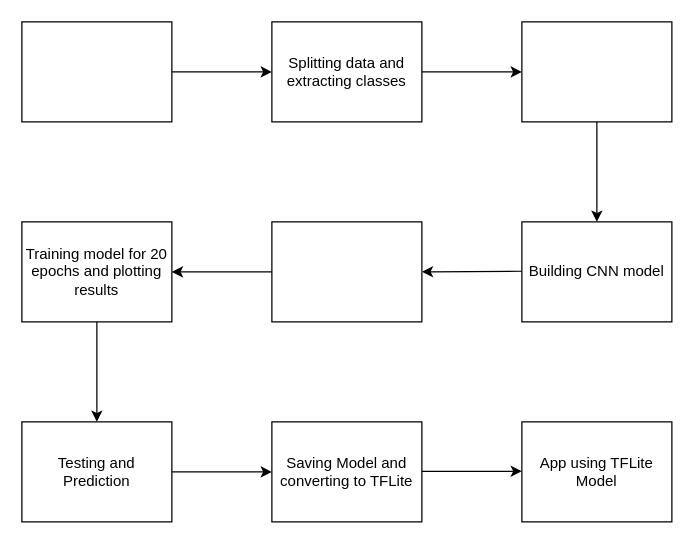
Some shapes in this 694 by 544 pixel diagram are drawn without their labels. Each missing label, with the centre of its shape:
Importing data and required libraries: the point at 96,71
Increasing samples by ImageDataGenerator: the point at 596,71
Plotting images after each layer of CNN: the point at 346,271
